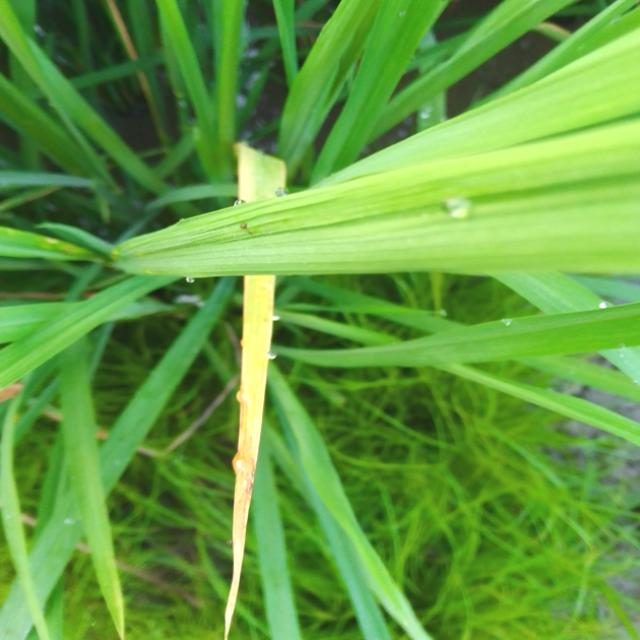Hawar Daun Bakteri: (207, 135, 329, 640)
